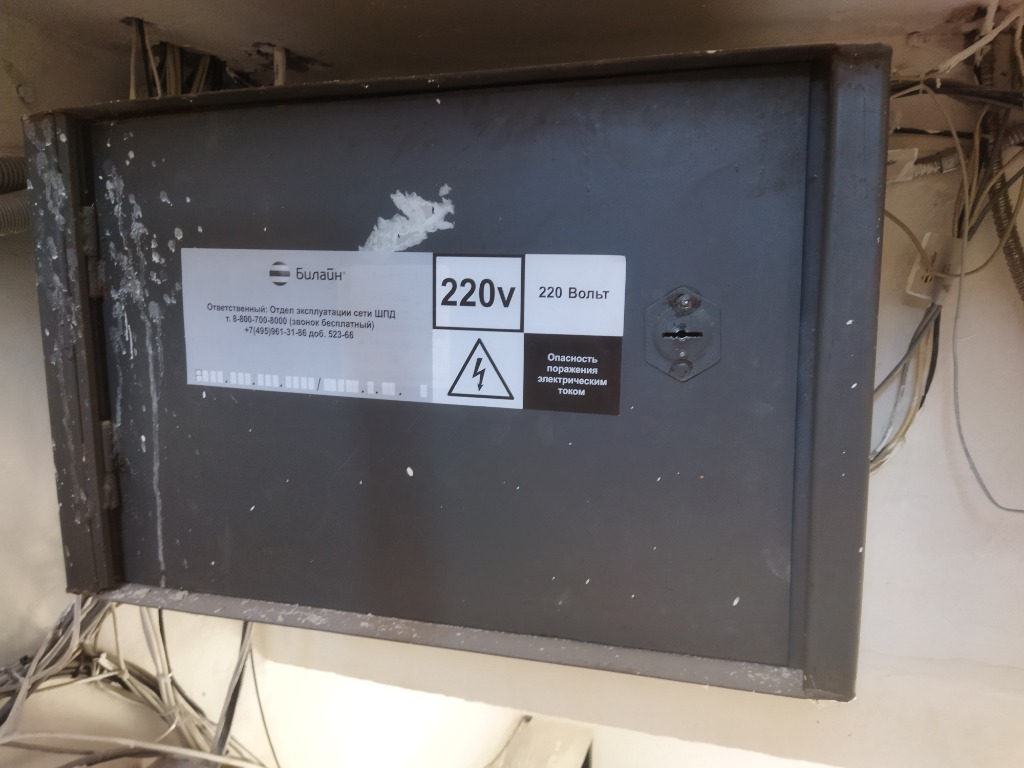e2-6u: (16, 35, 895, 715)
